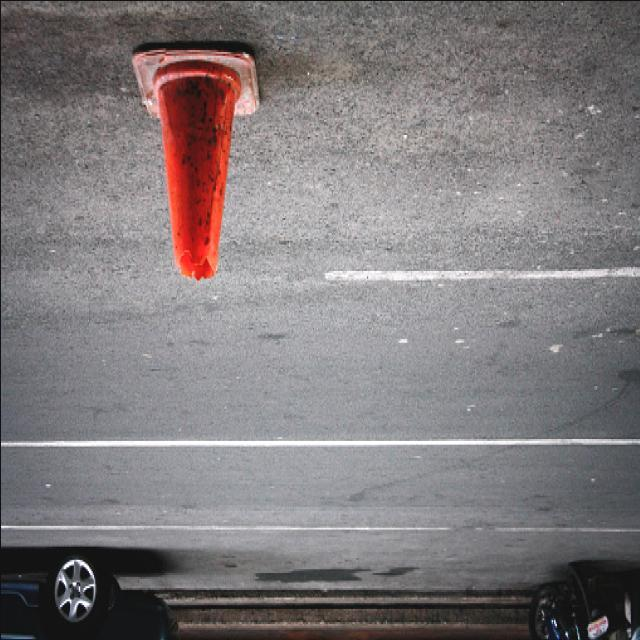traffic cone: (131, 40, 261, 282)
